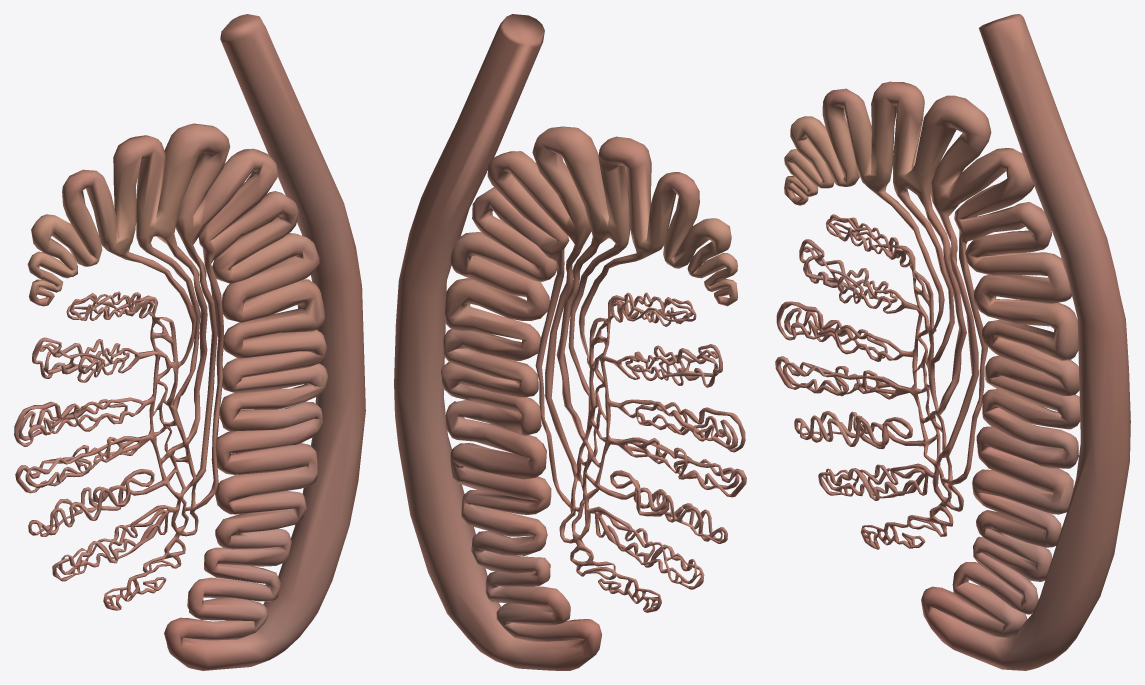
3 renders of one model, left to right at view 1: azimuth 30°, elevation 25°; view 2: azimuth 150°, elevation 25°; view 3: azimuth 330°, elevation 25°, orthographic.
Visible parts, largest first — view 1: LOD 4_6378092431652634060_a1e5460f9667e624384844bb77a670e0; view 2: LOD 4_6378092431652634060_a1e5460f9667e624384844bb77a670e0; view 3: LOD 4_6378092431652634060_a1e5460f9667e624384844bb77a670e0.
Part boxes in pixels (x1,y1,x2,y2): LOD 4_6378092431652634060_a1e5460f9667e624384844bb77a670e0: (14, 14, 365, 670); LOD 4_6378092431652634060_a1e5460f9667e624384844bb77a670e0: (394, 14, 746, 670); LOD 4_6378092431652634060_a1e5460f9667e624384844bb77a670e0: (775, 14, 1130, 670).
Size of the model in its own units: 6.96 by 12.33 by 0.9732.
